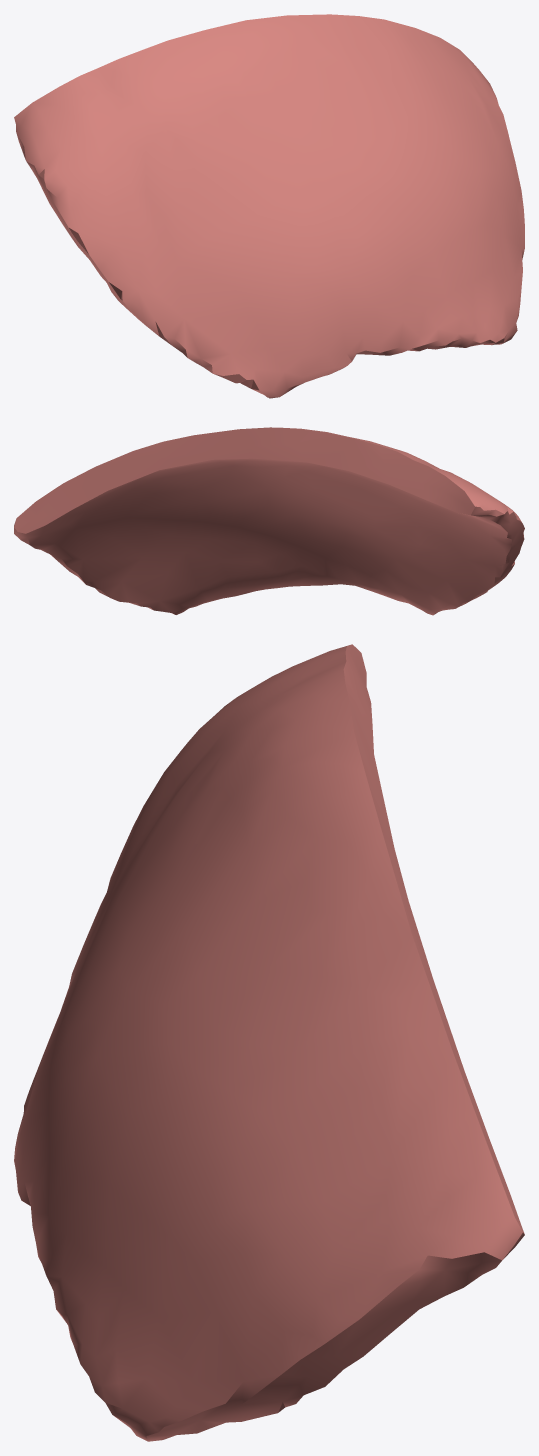
The model's file is fma54160-f_mm2217.glb.
3 renders of one model, top to bottom at view 1: azimuth 30°, elevation 25°; view 2: azimuth 150°, elevation 25°; view 3: azimuth 270°, elevation 25°, orthographic. The views are drawn at different scales.
Parts seen in each view (by area): view 1: FMA54160-F_MM2217; view 2: FMA54160-F_MM2217; view 3: FMA54160-F_MM2217.
Part boxes in pixels (<box>): FMA54160-F_MM2217: <box>14,14,524,398</box>; FMA54160-F_MM2217: <box>14,427,524,615</box>; FMA54160-F_MM2217: <box>14,644,524,1441</box>.
Size of the model in its own units: 0.02 by 0.0117 by 0.0104.
